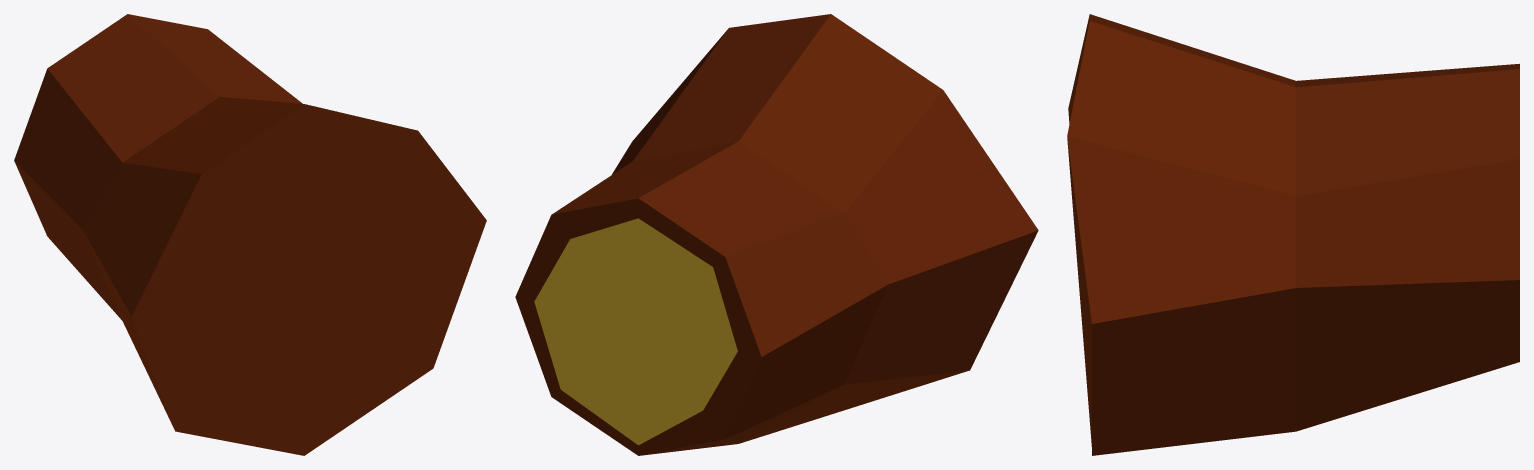
Rendered from TinyTrunk.fbx.
3 views of the same model, side by side, from view 1: azimuth 30°, elevation 25°; view 2: azimuth 150°, elevation 25°; view 3: azimuth 270°, elevation 25° (orthographic). The views are drawn at different scales.
Parts seen in each view (by area): view 1: TinyTrunk; view 2: TinyTrunk; view 3: TinyTrunk.
Boxes of the visible parts, x1,y1,x2,y2 form: TinyTrunk: (14, 14, 486, 455); TinyTrunk: (515, 14, 1038, 455); TinyTrunk: (1067, 14, 1519, 455).
Bounding box in the file's own units: 0.2626 × 0.2423 × 0.233.
